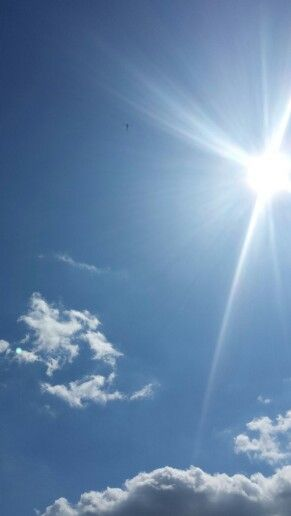sun: (221, 100, 287, 235)
